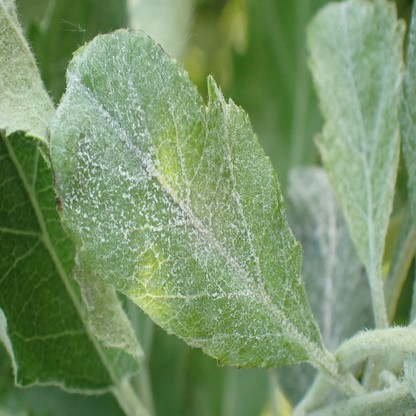powder: (49, 28, 339, 369), (306, 1, 404, 270), (288, 167, 361, 349), (0, 0, 55, 143), (71, 255, 143, 357), (402, 3, 416, 216)
